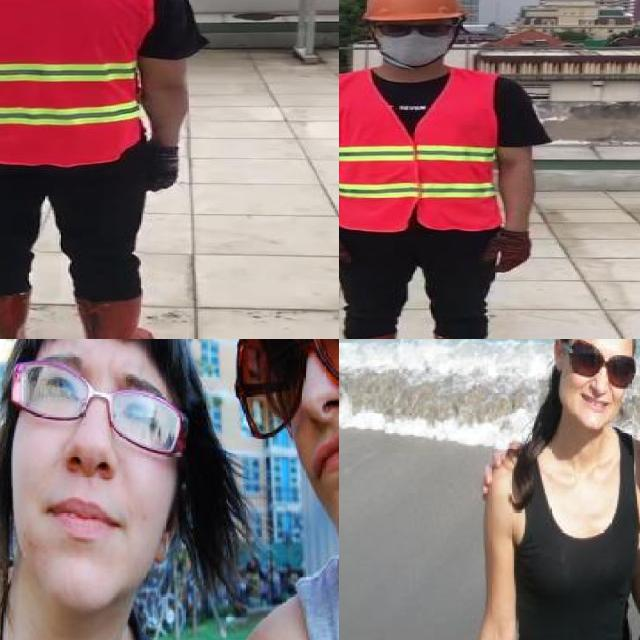boots: (75, 296, 157, 339), (0, 289, 31, 339)
face_mask: (378, 20, 452, 66)
face_nomask: (24, 365, 172, 547), (241, 339, 339, 489), (566, 340, 634, 419)
glasses: (1, 358, 194, 458), (228, 339, 339, 432), (560, 339, 639, 389), (373, 20, 459, 41)
hand_glove: (482, 231, 532, 274), (144, 144, 178, 191), (339, 232, 352, 275)
hand_noglove: (474, 444, 526, 501)
head_helmet: (353, 0, 472, 21)
person: (339, 0, 550, 339), (0, 0, 206, 339), (0, 339, 192, 640), (481, 339, 640, 640), (205, 339, 339, 640)
vest: (339, 67, 509, 232), (0, 0, 148, 166)
